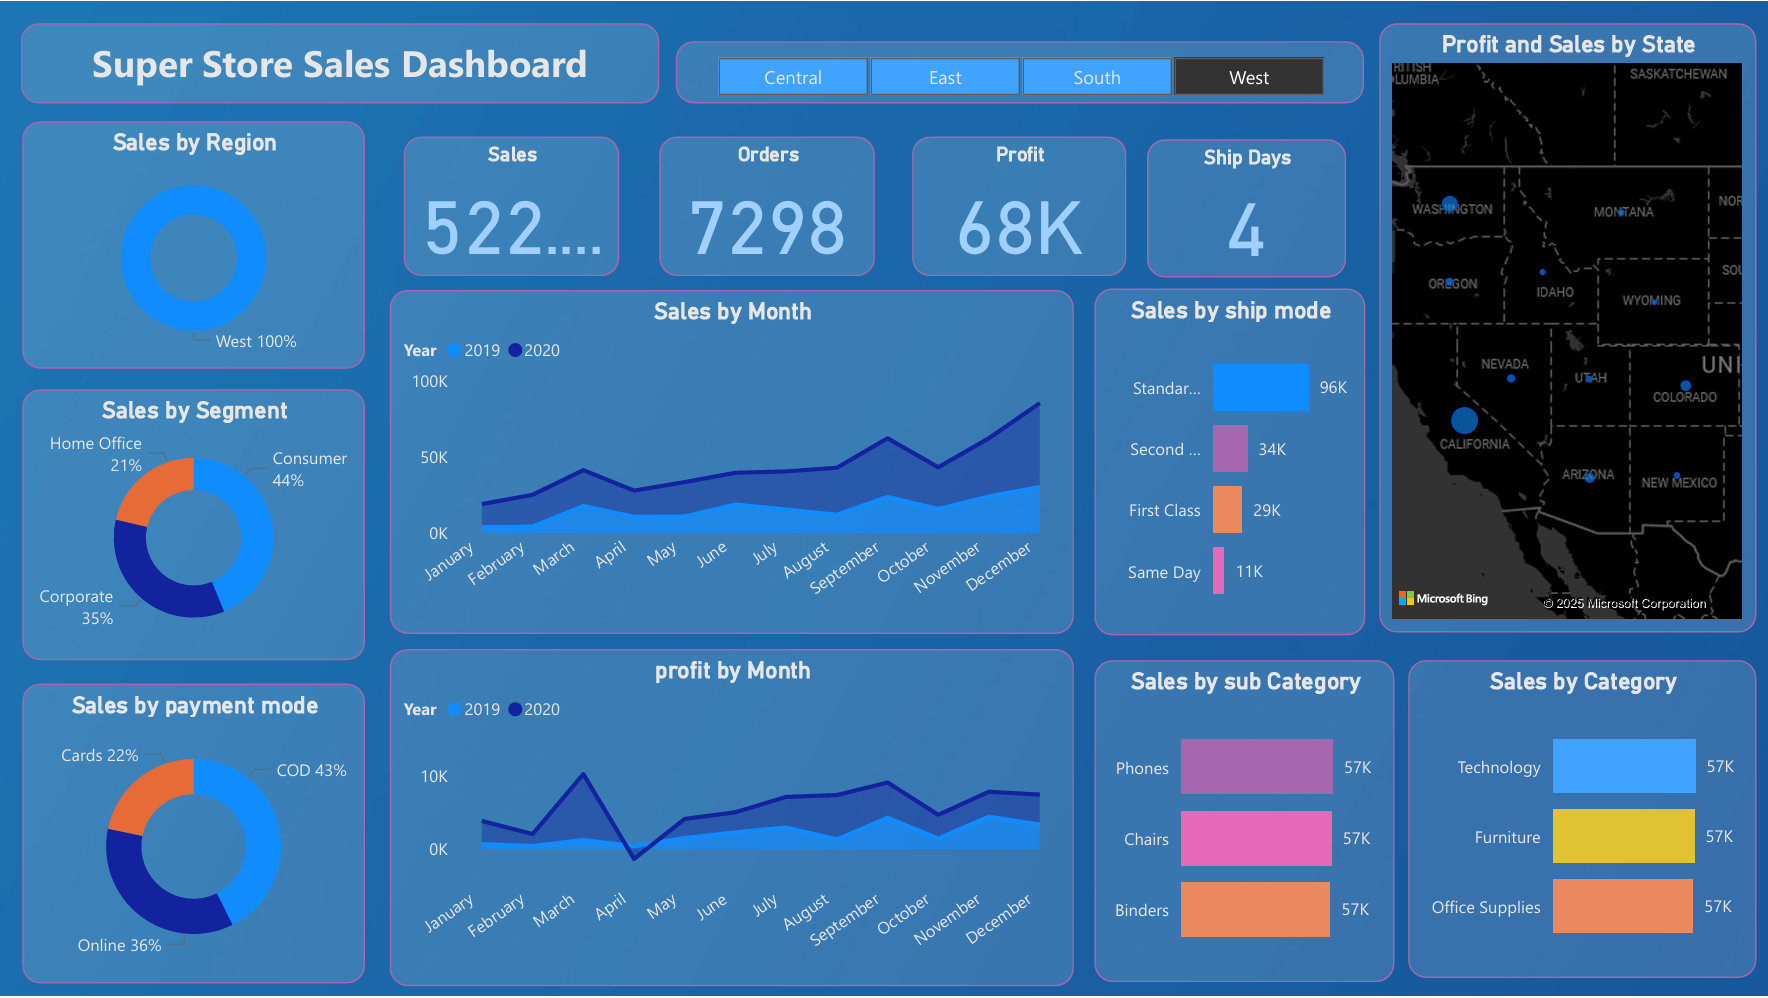

This screenshot's page, from the dashboard's own definition file:
{"tool":"powerbi","page":{"name":"Page 1","canvas":[1280,720],"ordinal":0},"visuals":[{"type":"barChart","title":" Sales by sub Category","fields":{"Category":["SuperStore_Sales_Dataset.Sub-Category"],"Y":["Sum(SuperStore_Sales_Dataset.Sales)"]},"box":[792.1,477.4,216.5,232.7],"z":0},{"type":"barChart","title":" Sales by ship mode","fields":{"Category":["SuperStore_Sales_Dataset.Ship Mode"],"Y":["Sum(SuperStore_Sales_Dataset.Sales)"]},"box":[792.1,208.4,196.3,250.1],"z":1000},{"type":"stackedAreaChart","title":"Sales by Month ","fields":{"Y":["Sum(SuperStore_Sales_Dataset.Sales)"],"Category":["SuperStore_Sales_Dataset.Order Date.Variation.Date Hierarchy.Month","SuperStore_Sales_Dataset.Order Date.Variation.Date Hierarchy.Day"],"Series":["SuperStore_Sales_Dataset.Order Date.Variation.Date Hierarchy.Year"]},"box":[282.3,208.7,494.6,249.7],"z":2000},{"type":"stackedAreaChart","title":"profit by Month ","fields":{"Category":["SuperStore_Sales_Dataset.Order Date.Variation.Date Hierarchy.Month","SuperStore_Sales_Dataset.Order Date.Variation.Date Hierarchy.Day"],"Series":["SuperStore_Sales_Dataset.Order Date.Variation.Date Hierarchy.Year"],"Y":["Sum(SuperStore_Sales_Dataset.Profit)"]},"box":[282.4,469.3,494.9,243.4],"z":3000},{"type":"barChart","title":" Sales by Category","fields":{"Category":["SuperStore_Sales_Dataset.Category"],"Y":["Sum(SuperStore_Sales_Dataset.Sales)"]},"box":[1019.4,477.4,251.5,230],"z":4000},{"type":"map","title":"Profit and  Sales by State","fields":{"Category":["SuperStore_Sales_Dataset.State"],"Size":["Sum(SuperStore_Sales_Dataset.Sales)"]},"box":[997.9,16.1,273,441.1],"z":5000},{"type":"donutChart","title":" Sales by Segment","fields":{"Category":["SuperStore_Sales_Dataset.Segment"],"Y":["Sum(SuperStore_Sales_Dataset.Sales)"]},"box":[16.1,281.1,247.4,196.3],"z":6000},{"type":"donutChart","title":" Sales by payment mode","fields":{"Y":["Sum(SuperStore_Sales_Dataset.Sales)"],"Category":["SuperStore_Sales_Dataset.Payment Mode"]},"box":[16.1,493.6,247.4,217.9],"z":7000},{"type":"slicer","fields":{"Values":["SuperStore_Sales_Dataset.Region"]},"box":[488.6,28.6,498.6,45.7],"z":8000},{"type":"textbox","box":[14.8,16.1,462.6,57.8],"z":9000},{"type":"card","title":"Sales","fields":{"Values":["Sum(SuperStore_Sales_Dataset.Sales)"]},"box":[291.8,98.2,156,100.9],"z":10000},{"type":"card","title":"Orders","fields":{"Values":["Sum(SuperStore_Sales_Dataset.Quantity)"]},"box":[477.4,98.2,156,100.9],"z":11000},{"type":"card","title":"Profit","fields":{"Values":["Sum(SuperStore_Sales_Dataset.Profit)"]},"box":[660.3,98.2,154.7,100.9],"z":12000},{"type":"card","title":"Ship Days","fields":{"Values":["Avg(SuperStore_Sales_Dataset.AvgDelivery)"]},"box":[829.8,99.5,143.9,100.9],"z":13000},{"type":"donutChart","title":" Sales by Region","fields":{"Category":["SuperStore_Sales_Dataset.Region"],"Y":["Sum(SuperStore_Sales_Dataset.Sales)"]},"box":[16.1,87.4,247.4,178.9],"z":14000}]}

Visuals, with their boxes in screenshot pixels (x1, y1, x2, y2), scaled from the page's 1280x720 canvas onto the 1768x998 screenshot:
" Sales by sub Category" barChart: left=1094, top=662, right=1393, bottom=984
" Sales by ship mode" barChart: left=1094, top=289, right=1365, bottom=636
"Sales by Month " stackedAreaChart: left=390, top=289, right=1073, bottom=635
"profit by Month " stackedAreaChart: left=390, top=651, right=1074, bottom=988
" Sales by Category" barChart: left=1408, top=662, right=1755, bottom=981
"Profit and  Sales by State" map: left=1378, top=22, right=1755, bottom=634
" Sales by Segment" donutChart: left=22, top=390, right=364, bottom=662
" Sales by payment mode" donutChart: left=22, top=684, right=364, bottom=986
slicer - SuperStore_Sales_Dataset.Region: left=675, top=40, right=1364, bottom=103
textbox: left=20, top=22, right=659, bottom=102
"Sales" card: left=403, top=136, right=619, bottom=276
"Orders" card: left=659, top=136, right=875, bottom=276
"Profit" card: left=912, top=136, right=1126, bottom=276
"Ship Days" card: left=1146, top=138, right=1345, bottom=278
" Sales by Region" donutChart: left=22, top=121, right=364, bottom=369
